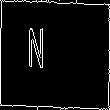N_S: (46, 29, 64, 81)
